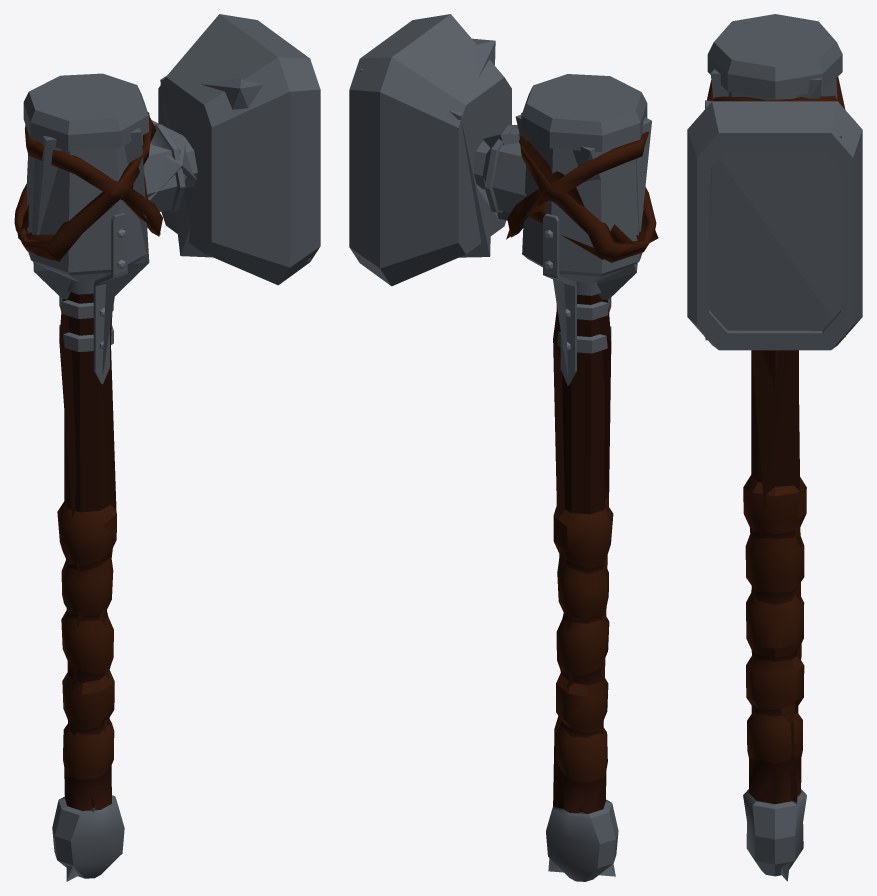
The model's file is Hammer_Small.fbx.
3 renders of one model, left to right at view 1: azimuth 30°, elevation 25°; view 2: azimuth 150°, elevation 25°; view 3: azimuth 270°, elevation 25°, orthographic. The views are drawn at different scales.
Parts seen in each view (by area): view 1: High_Hammer_small, Low_Hammer_small; view 2: High_Hammer_small, Low_Hammer_small; view 3: High_Hammer_small, Low_Hammer_small.
Part boxes in pixels (left/top/right/bottom): High_Hammer_small: left=14, top=14, right=320, bottom=878; Low_Hammer_small: left=17, top=75, right=310, bottom=881; High_Hammer_small: left=349, top=14, right=656, bottom=881; Low_Hammer_small: left=357, top=38, right=658, bottom=876; High_Hammer_small: left=687, top=14, right=862, bottom=876; Low_Hammer_small: left=705, top=69, right=845, bottom=881.
Bounding box in the file's own units: 149 × 433 × 80.57.
